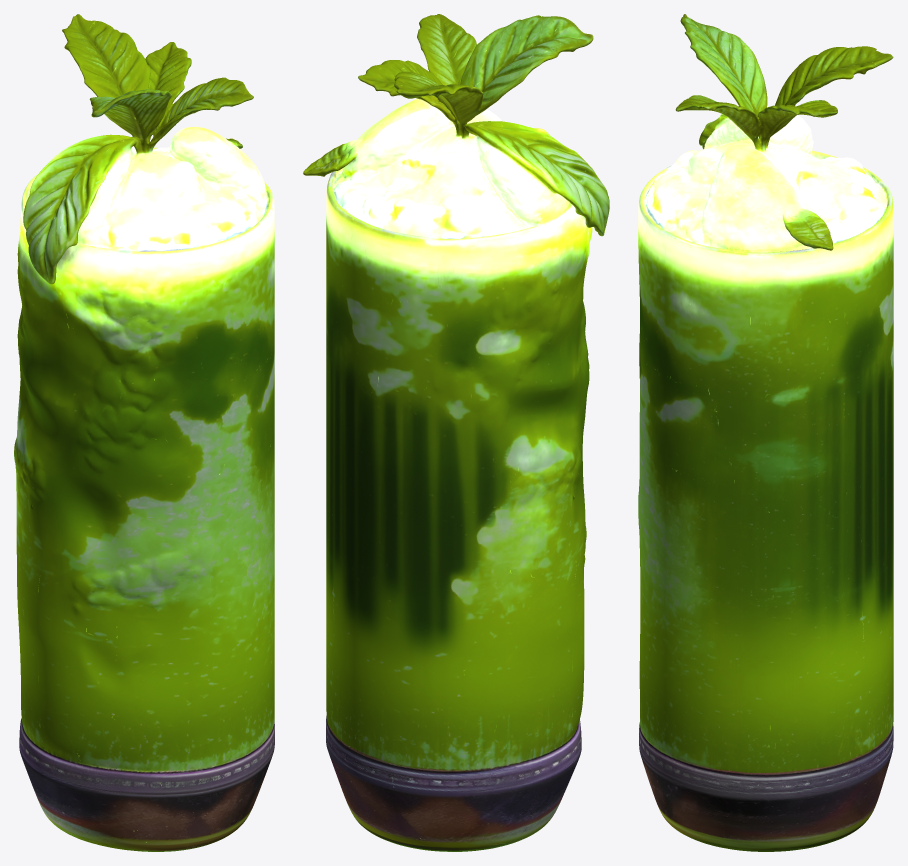
Rendered from Mint_Margerita.glb.
The picture shows the model from 3 angles, left to right: view 1: azimuth 30°, elevation 25°; view 2: azimuth 150°, elevation 25°; view 3: azimuth 270°, elevation 25°; orthographic projection.
Bounding box in the file's own units: 0.6405 × 1.9 × 0.5756.
Materials: 1 (1 with a texture image).
